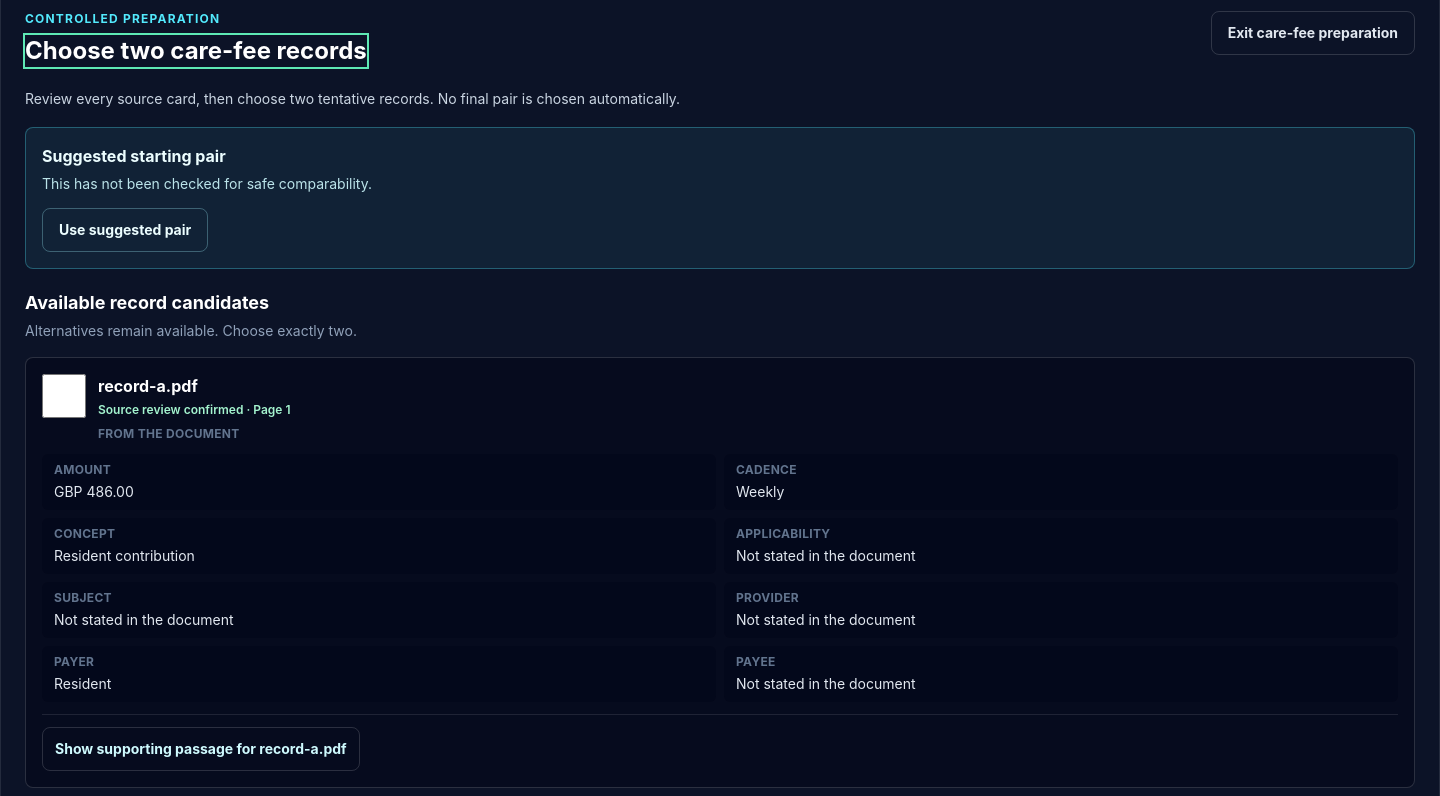
it: CareFeeClaimConfirmationPanel › keeps supporting passages collapsed with document identity visible
This screenshot has width=1440, height=796.
Expected: the text "record-a.pdf" is shown, [98, 376, 198, 396]
Expected: the text "Resident contribution: GBP 486 per week" is not shown
Click the button "Show supporting passage for record-a.pdf": point(201, 749) [42, 727, 360, 771]
(page scrolled)
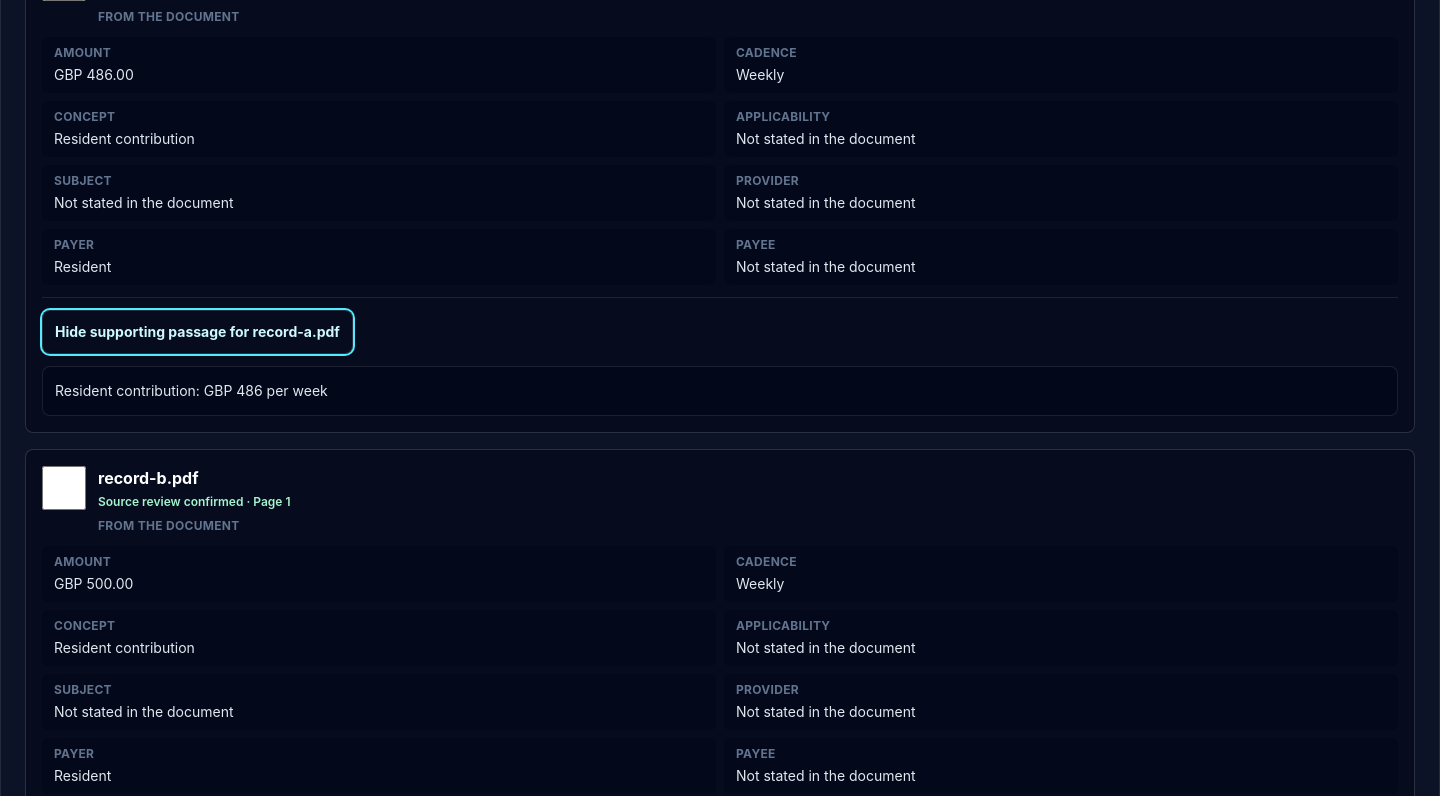
Now the button named "Show supporting passage for record-a.pdf" is expanded, box [42, 310, 353, 354]
Now the text "Resident contribution: GBP 486 per week" is shown, box [42, 366, 1398, 416]
